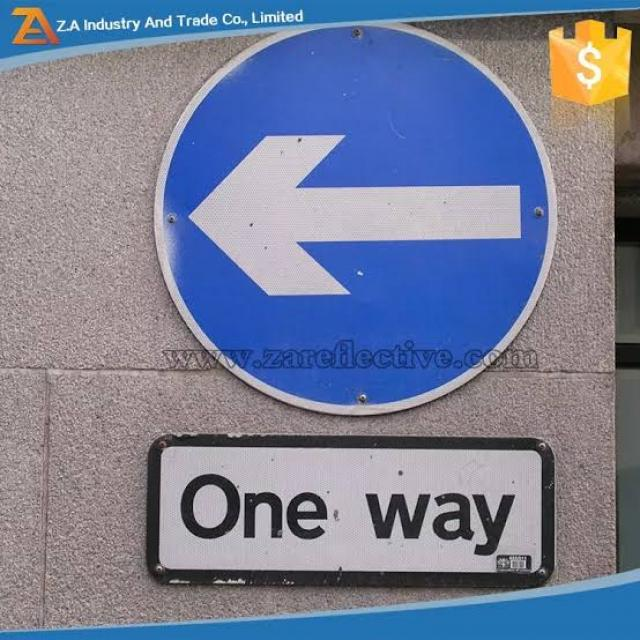Turn Left: (151, 29, 561, 416)
